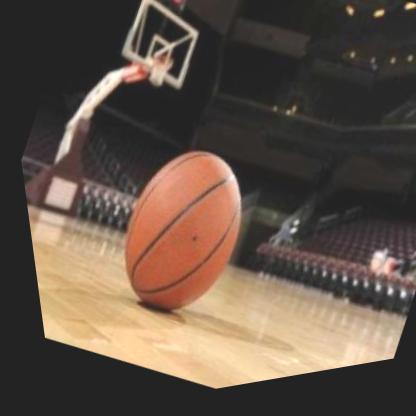basketball: (79, 122, 277, 345)
